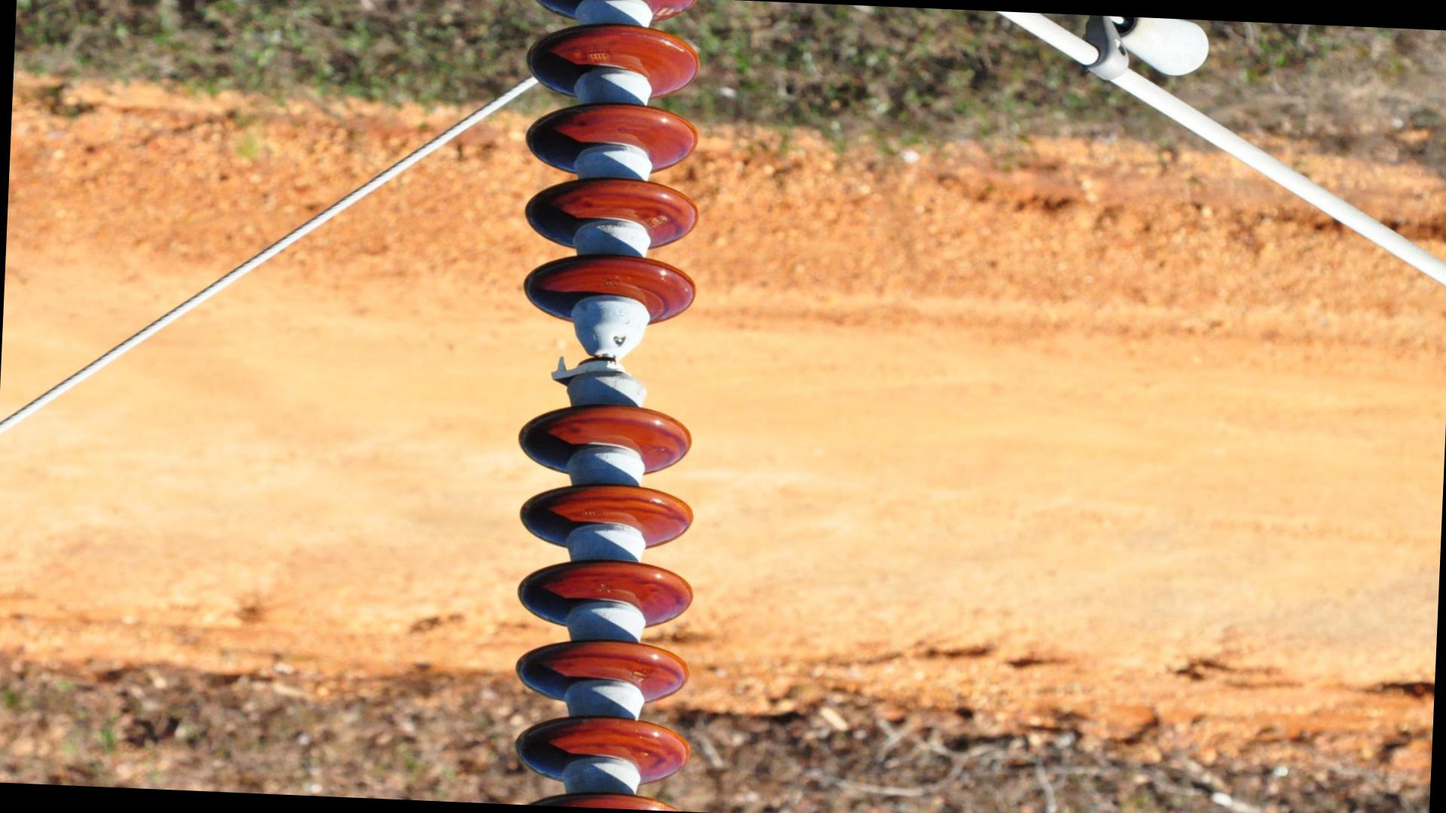damper: (972, 1, 1219, 96)
